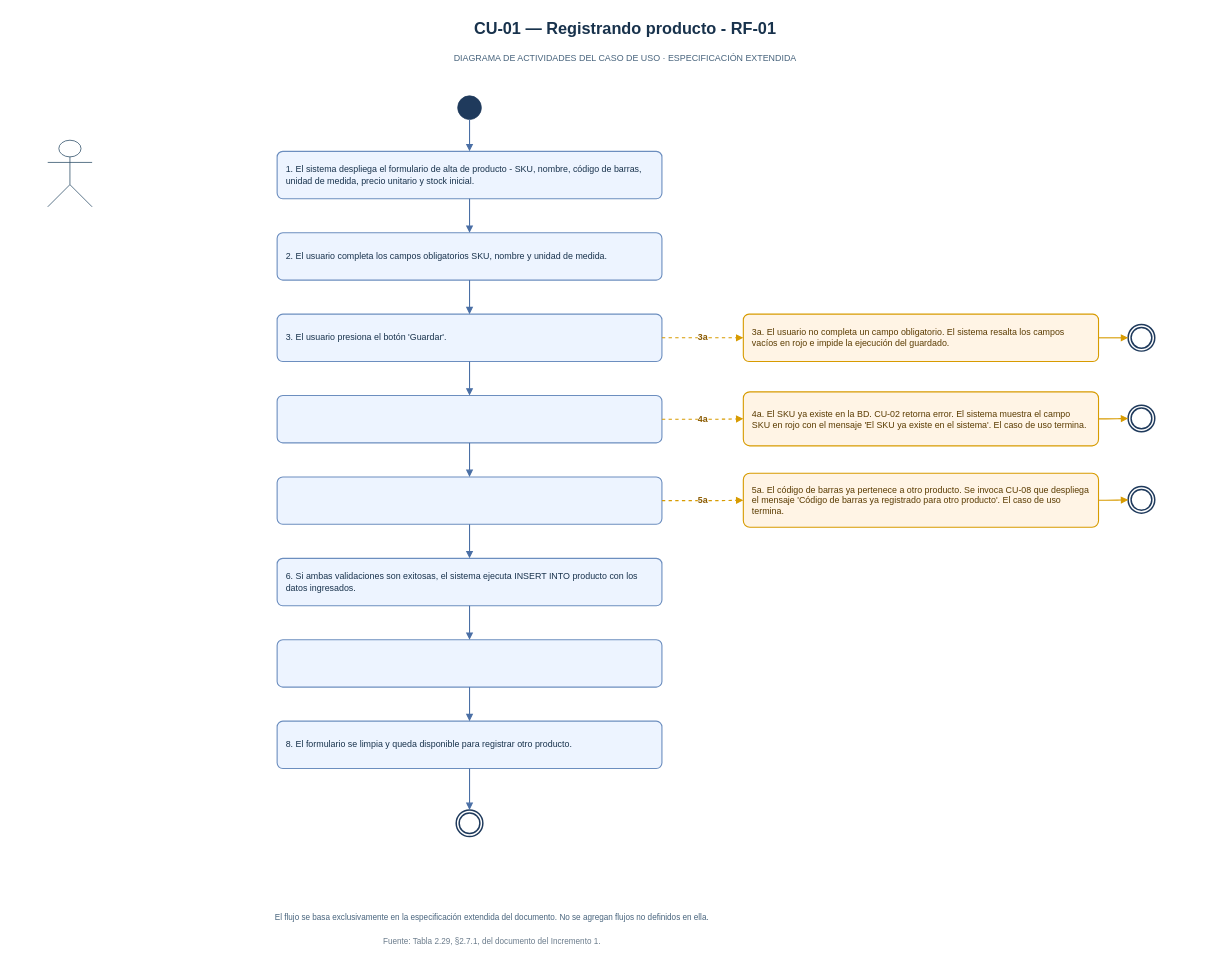
Some shapes in this 1222 by 962 pixel diagram are drawn without their labels. Each missing label, with the centre of its shape:
"4. El sistema invoca CU-02 para validar la unicidad del SKU." goes at point 469,419.
"5. El sistema invoca CU-07 para validar la unicidad del código de barras." goes at point 469,500.
"7. El sistema muestra el mensaje 'Producto registrado correctamente'." goes at point 469,663.
"Administrador / Bodeguero" goes at point 69,173.
